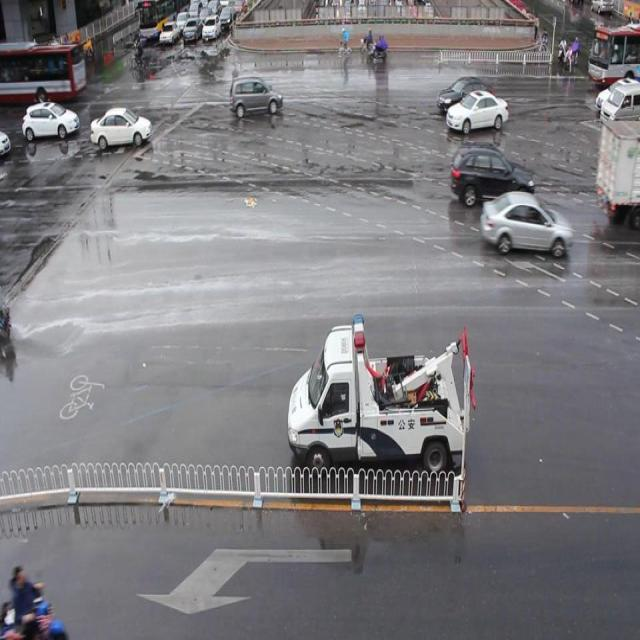bus: (286, 320, 475, 486), (594, 122, 640, 221)
car: (479, 192, 574, 258), (450, 144, 535, 207), (90, 104, 152, 150), (445, 92, 508, 134), (229, 75, 283, 116), (22, 102, 80, 140), (438, 78, 491, 112)
truck: (598, 83, 640, 127)
